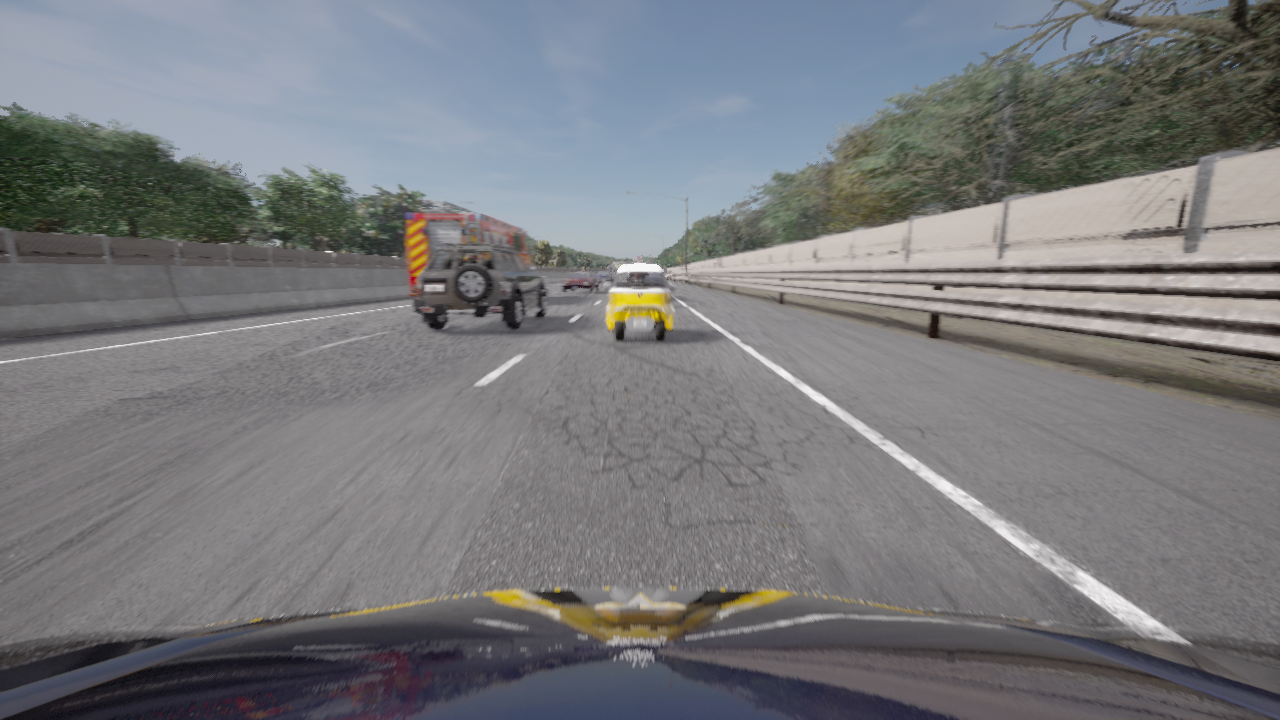cyclist: (0, 588, 1279, 719), (406, 200, 535, 295), (413, 244, 548, 329), (603, 265, 675, 341), (560, 272, 598, 292), (595, 271, 614, 285)
